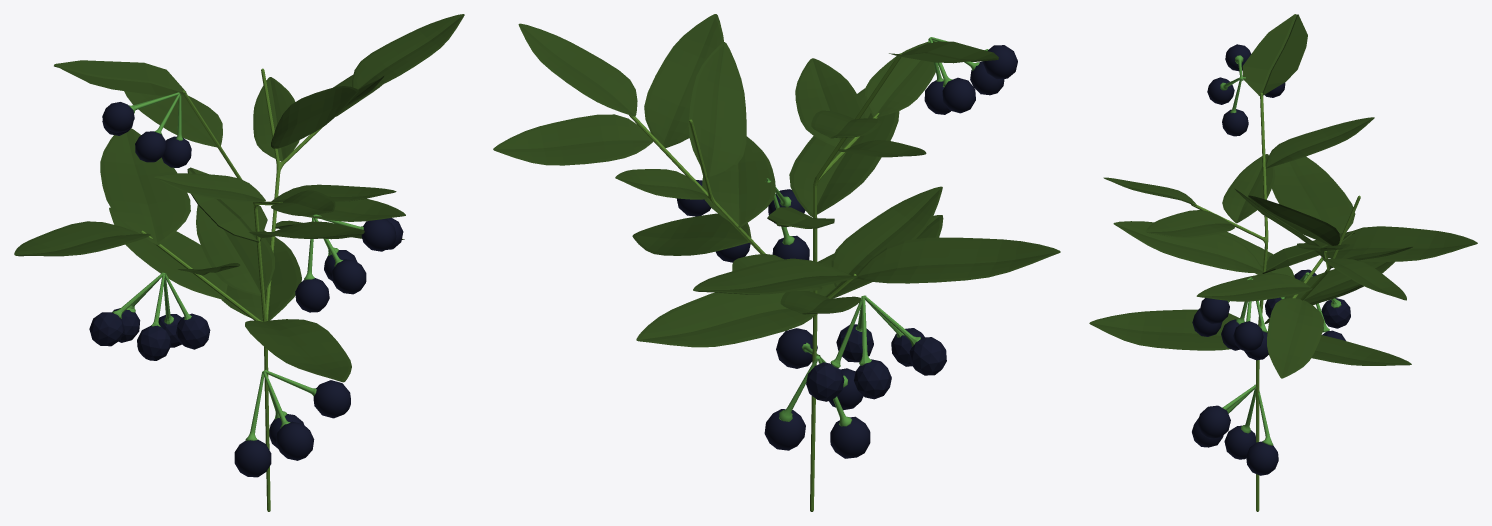
Rendered from 1_Forest_B_까마중수정.fbx.
The picture shows the model from 3 angles, left to right: view 1: azimuth 30°, elevation 25°; view 2: azimuth 150°, elevation 25°; view 3: azimuth 270°, elevation 25°; orthographic projection. The views are drawn at different scales.
Visible parts, largest first — view 1: Item_NOEat_어린까마중줄기+, Item_NOEat_까마중 <; view 2: Item_NOEat_어린까마중줄기+, Item_NOEat_까마중 <; view 3: Item_NOEat_어린까마중줄기+, Item_NOEat_까마중 <.
Part boxes in pixels (bbox=[...]): Item_NOEat_어린까마중줄기+: bbox=[14, 14, 464, 511]; Item_NOEat_까마중 <: bbox=[89, 272, 210, 360]; Item_NOEat_어린까마중줄기+: bbox=[493, 14, 1060, 511]; Item_NOEat_까마중 <: bbox=[806, 295, 946, 401]; Item_NOEat_어린까마중줄기+: bbox=[1089, 14, 1477, 511]; Item_NOEat_까마중 <: bbox=[1265, 269, 1350, 340].
Size of the model in its own units: 365 by 446 by 431.
